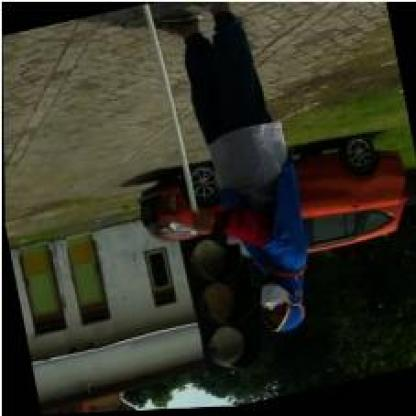yellow: (177, 230, 263, 382)
